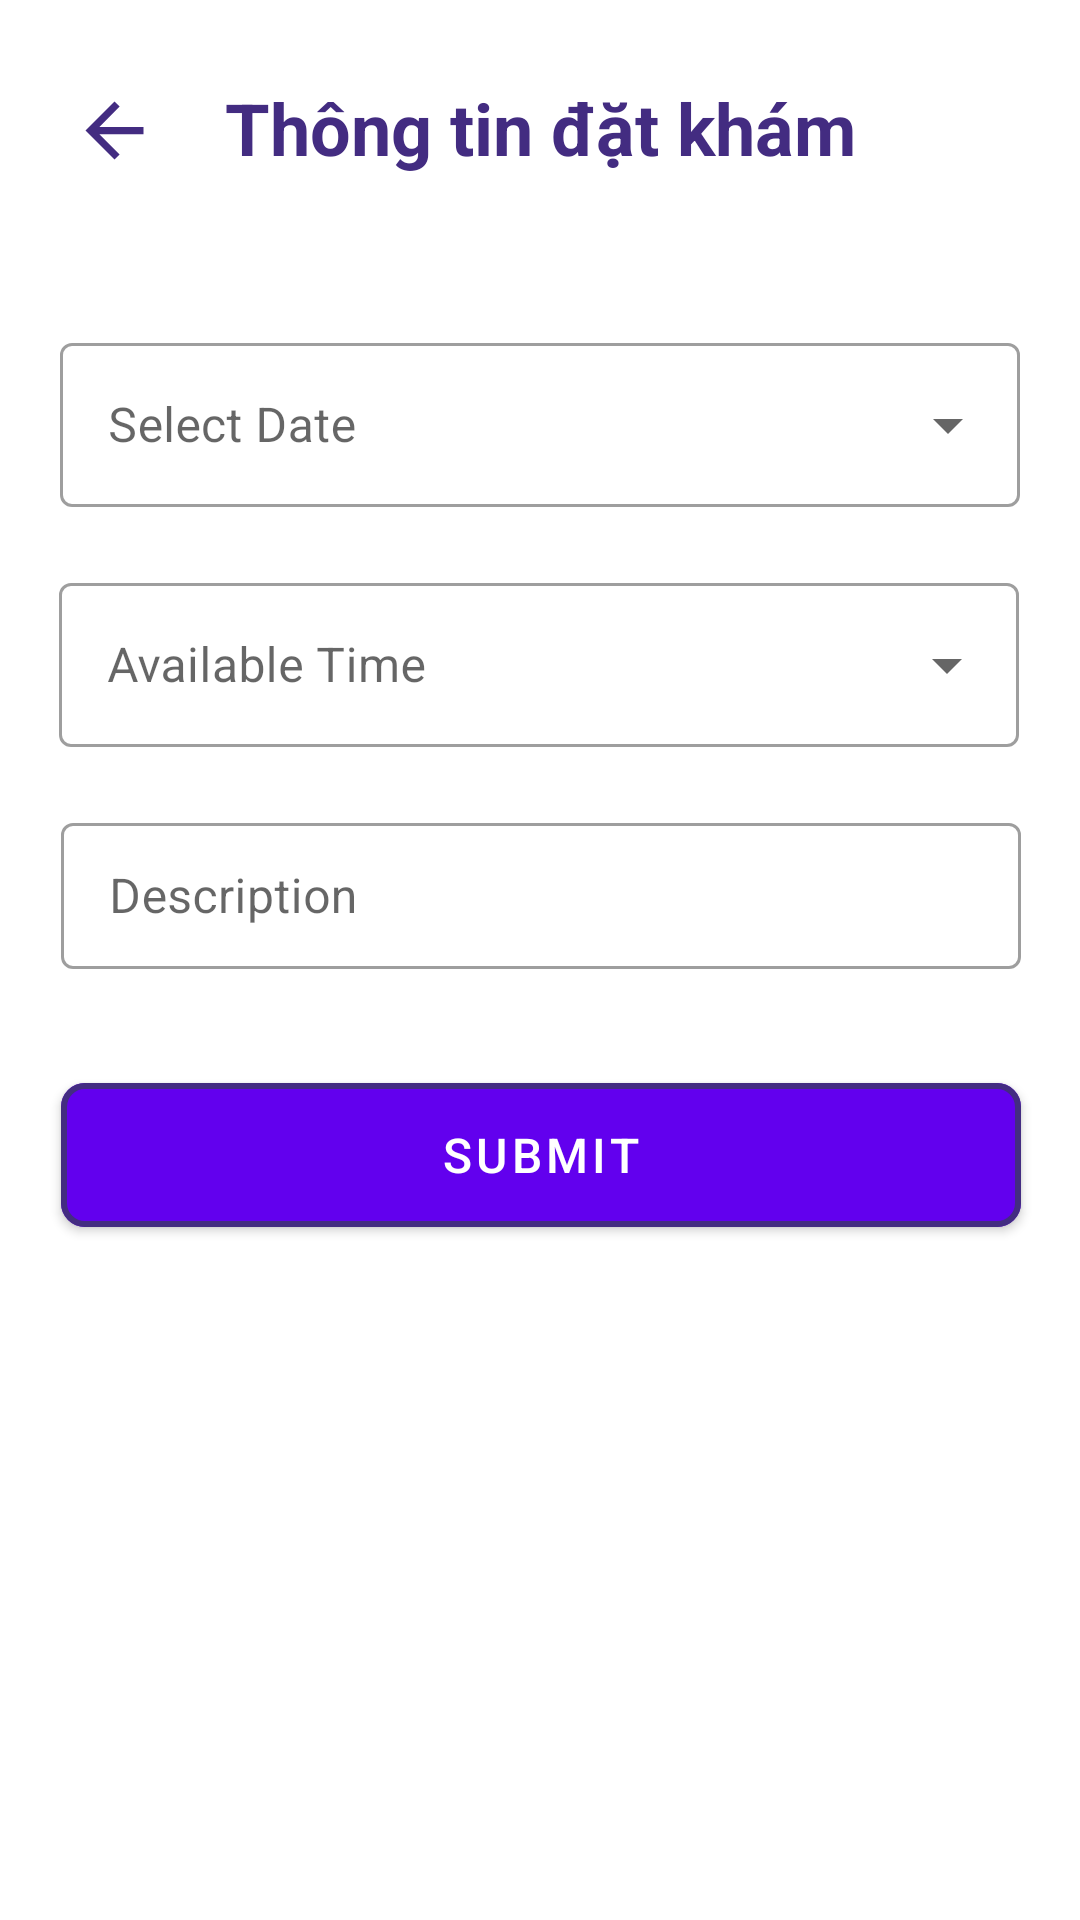

Named icons in this screenshot (1080×1920) and their centers, (x=x, y=y):
arrow back: (x=114, y=130)
